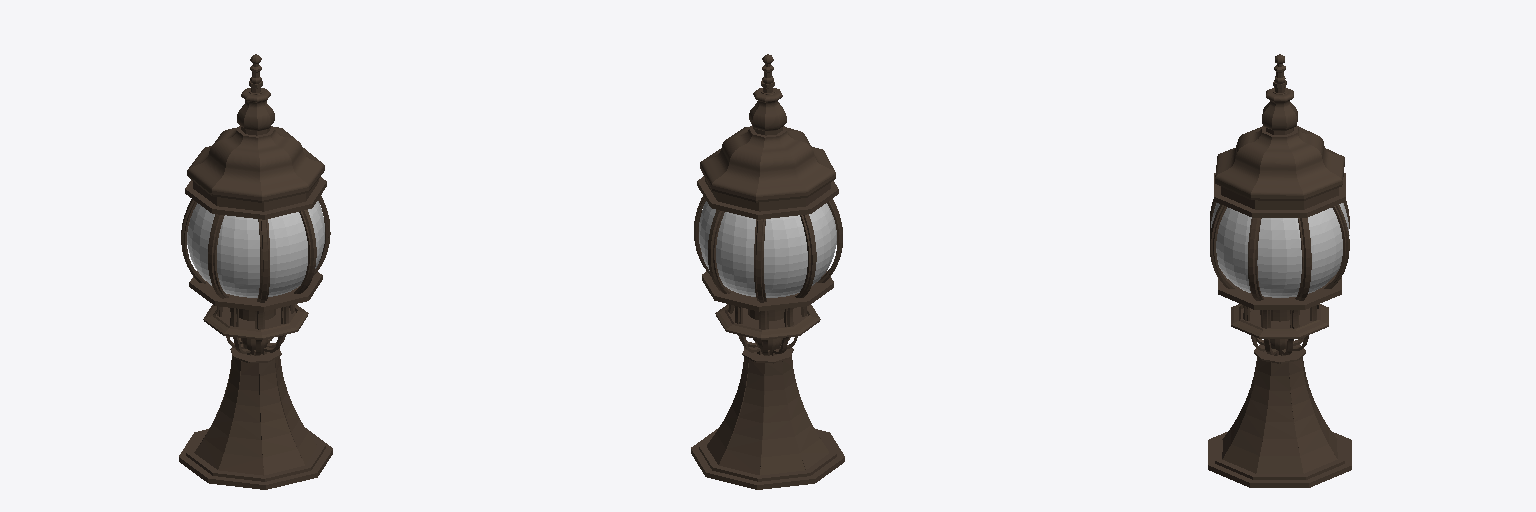
File: light.obj
The picture shows the model from 3 angles: view 1: azimuth 30°, elevation 25°; view 2: azimuth 150°, elevation 25°; view 3: azimuth 270°, elevation 25°; orthographic projection.
Visible parts, largest first — view 1: 500, Mesh01, Mesh02; view 2: 500, Mesh01, Mesh02; view 3: 500, Mesh01, Mesh02.
Part boxes in pixels (x1,y1,x2,y2): 500: (179,177,332,489); Mesh01: (187,54,324,202); Mesh02: (187,201,324,297); 500: (691,176,844,489); Mesh01: (700,54,835,202); Mesh02: (699,201,836,297); 500: (1208,173,1351,487); Mesh01: (1215,54,1344,200); Mesh02: (1211,203,1349,297).
Size of the model in its own units: 0.6411 by 1.97 by 0.6411.